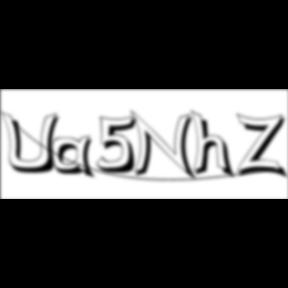5: (97, 114, 144, 176)
N: (130, 109, 200, 183)
U: (0, 110, 66, 176)
a: (52, 135, 100, 182)
h: (190, 108, 238, 182)
